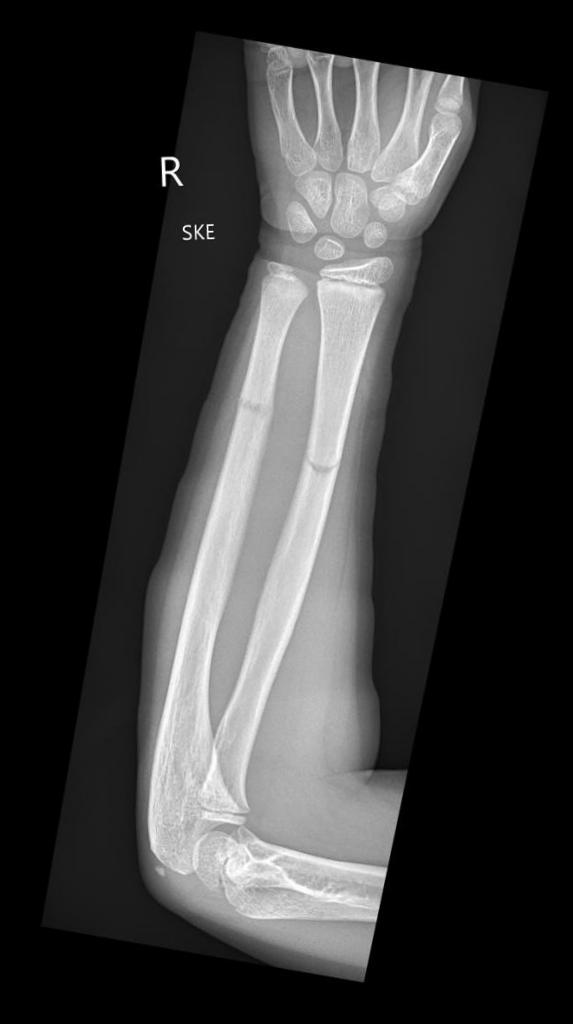fracture: (233, 396, 272, 426), (300, 453, 344, 479)
